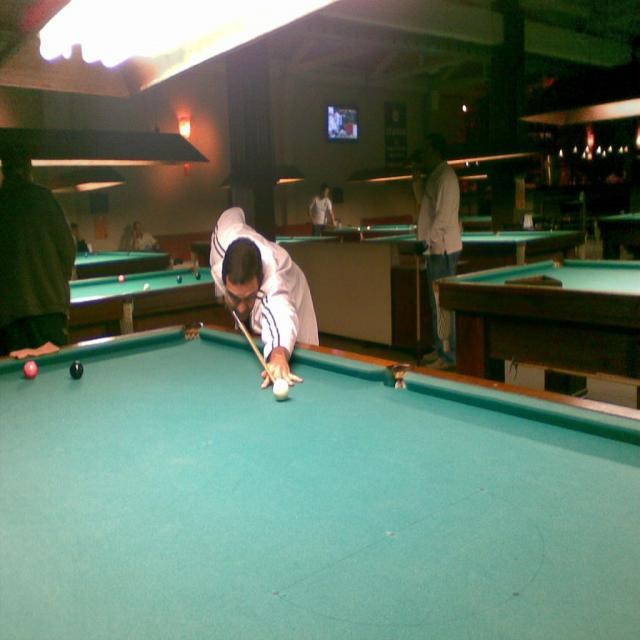Ball: (270, 378, 288, 404), (68, 361, 85, 379), (24, 360, 40, 378)
Billiard table: (0, 319, 640, 640)
